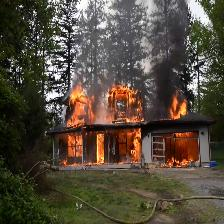fire: (68, 93, 90, 155), (127, 131, 142, 157), (173, 100, 188, 120), (97, 133, 106, 163)
